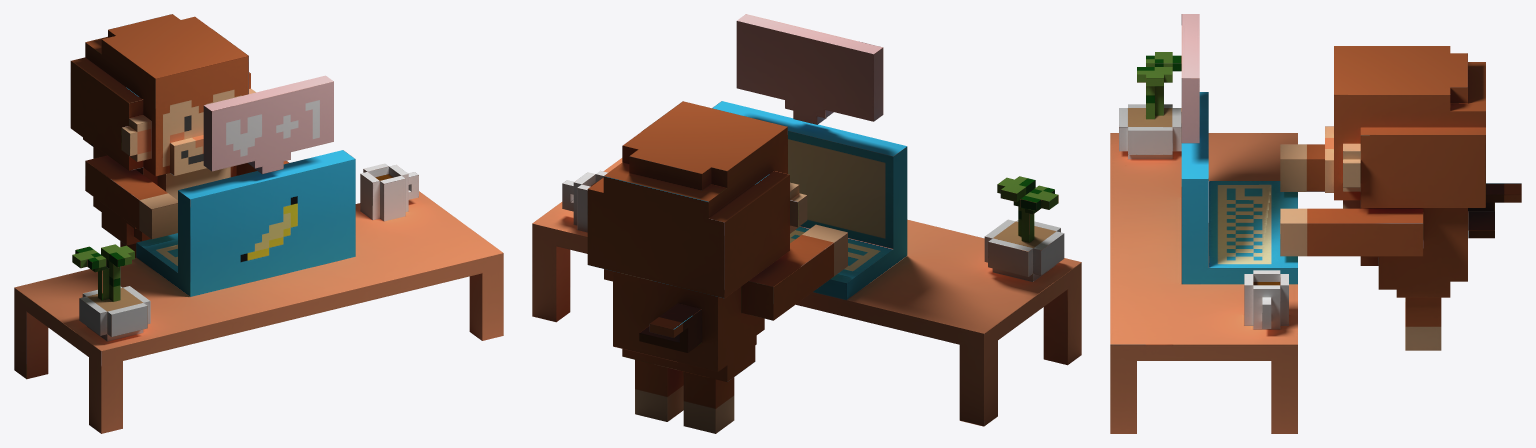
File: monkey.glb
3 views of the same model, side by side, from view 1: azimuth 30°, elevation 25°; view 2: azimuth 150°, elevation 25°; view 3: azimuth 270°, elevation 25° (orthographic). The views are drawn at different scales.
Visible parts, largest first — view 1: main; view 2: main; view 3: main.
Boxes of the visible parts, left/top/right/bottom form: main: left=14, top=14, right=503, bottom=433; main: left=532, top=14, right=1081, bottom=433; main: left=1110, top=14, right=1521, bottom=433.
Size of what is drawn, in the model's own units: 5.6 by 3.5 by 4.6.
Materials: 1 (1 with a texture image).
